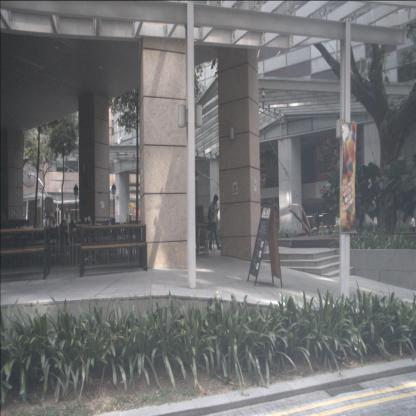human-pedestrian-adult: (208, 194, 222, 250), (408, 214, 416, 242), (66, 208, 68, 225)
